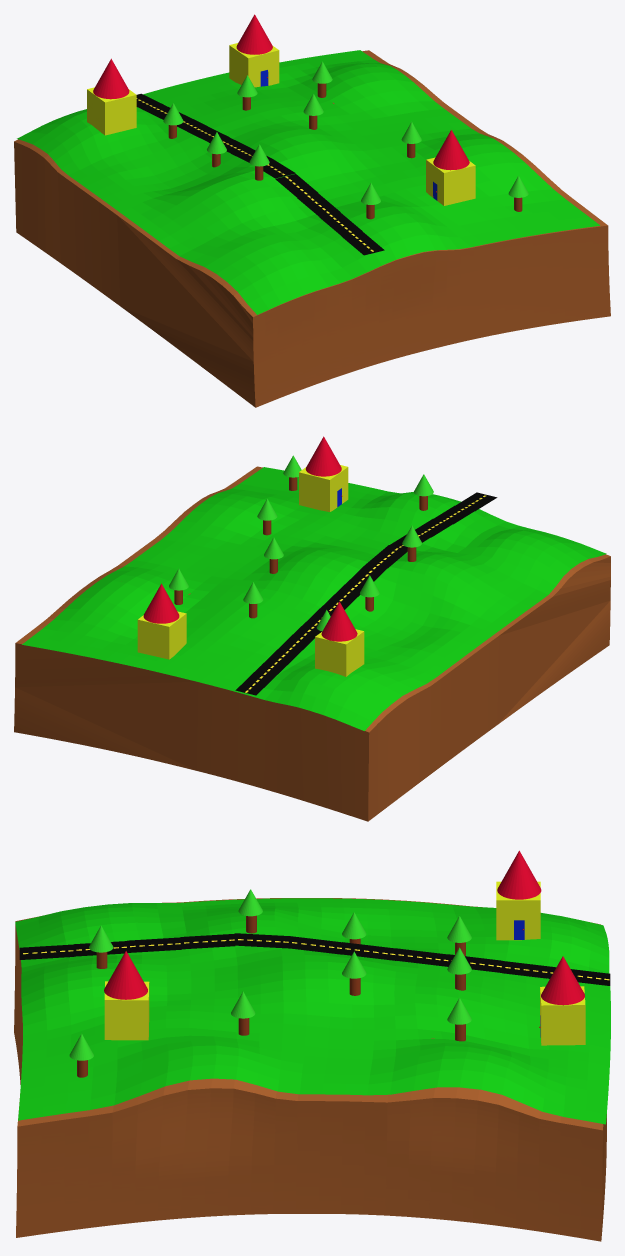
File: Topography Surface.gltf
The picture shows the model from 3 angles, top to bottom: view 1: azimuth 30°, elevation 25°; view 2: azimuth 150°, elevation 25°; view 3: azimuth 270°, elevation 25°; orthographic projection. The views are drawn at different scales.
Visible parts, largest first — view 1: Cube; view 2: Cube; view 3: Cube.
Part boxes in pixels (<box>): Cube: <box>14,14,610,407</box>; Cube: <box>14,436,610,821</box>; Cube: <box>14,850,610,1241</box>.
Bounding box in the file's own units: 23.56 × 11.34 × 27.02.
